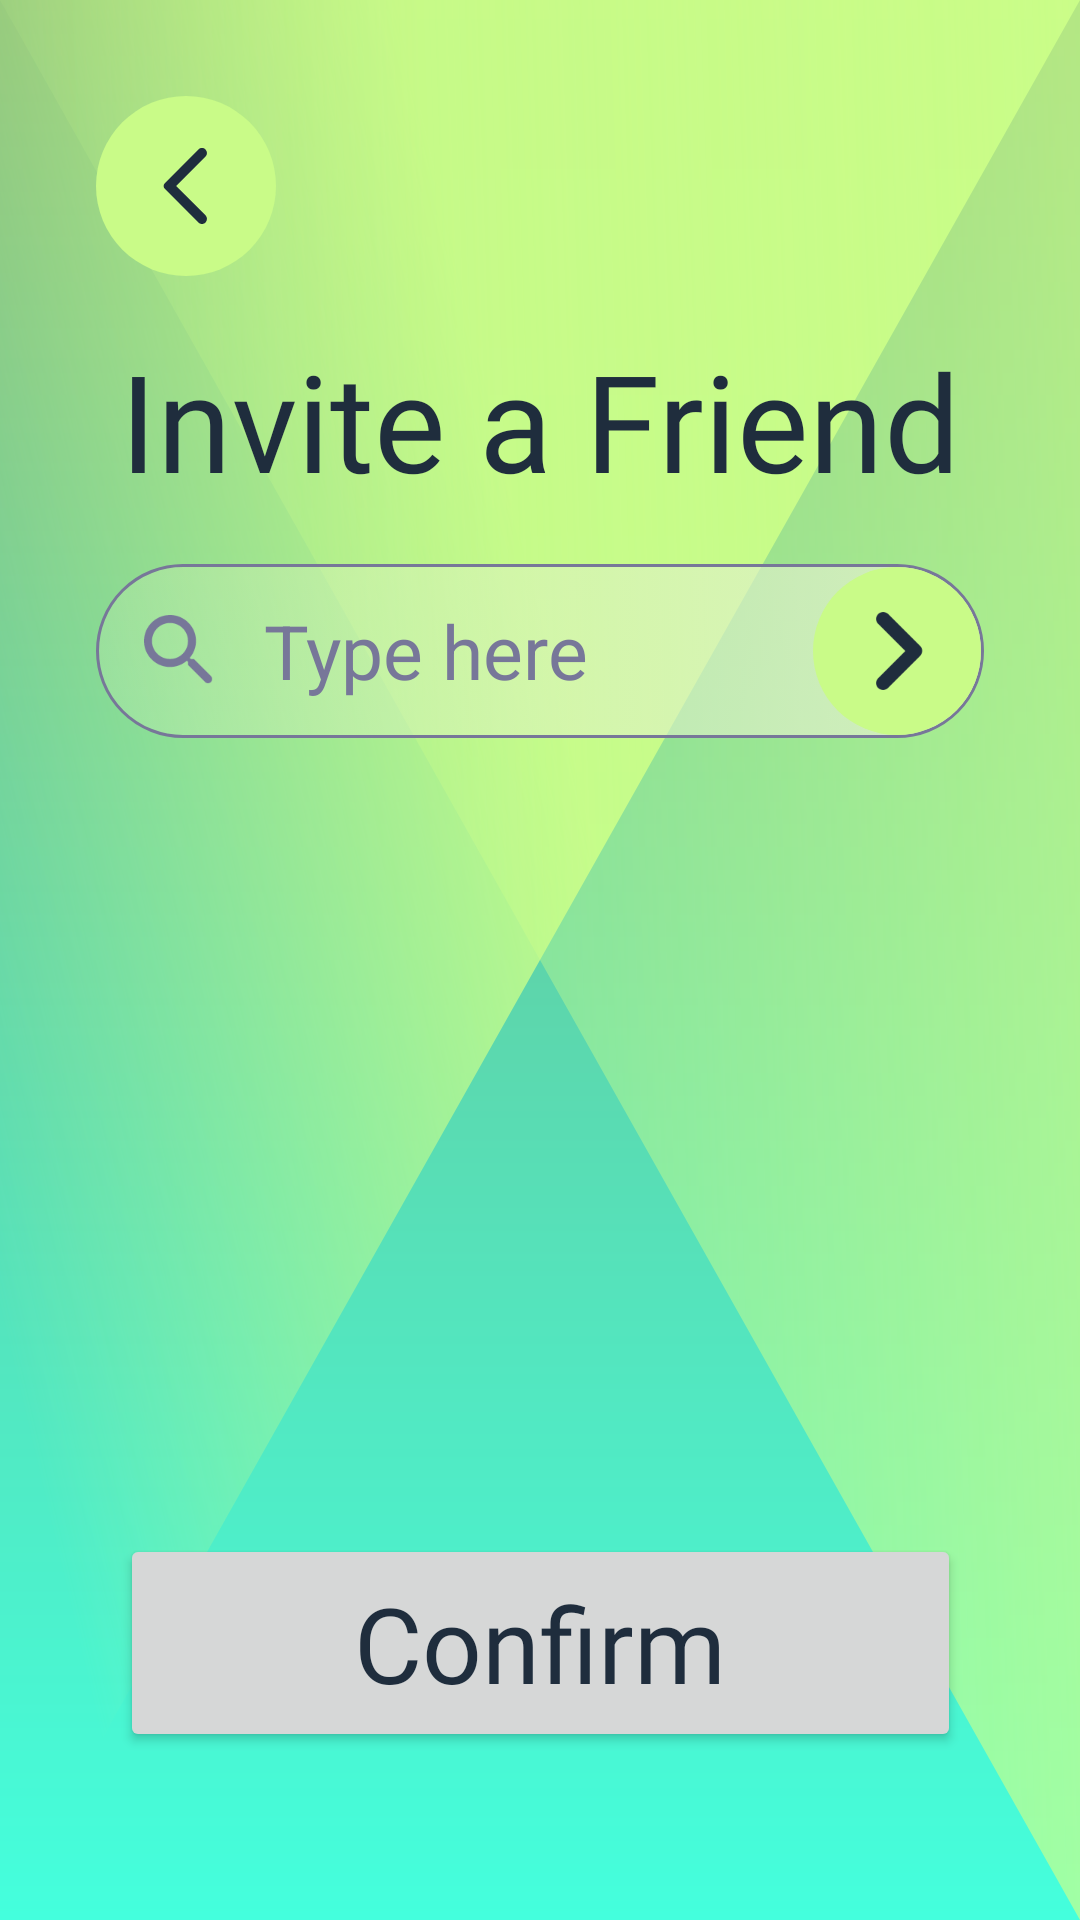

Point at icon controls on the screen. Image size 1080px x 1920px, points as (x,y).
next: (897,651)
return: (186,186)
